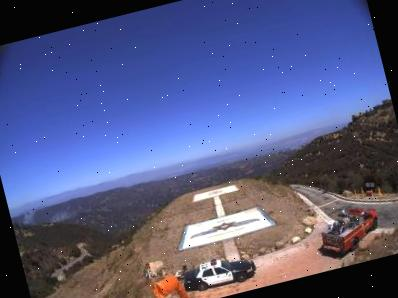smoke: (18, 193, 78, 231)
